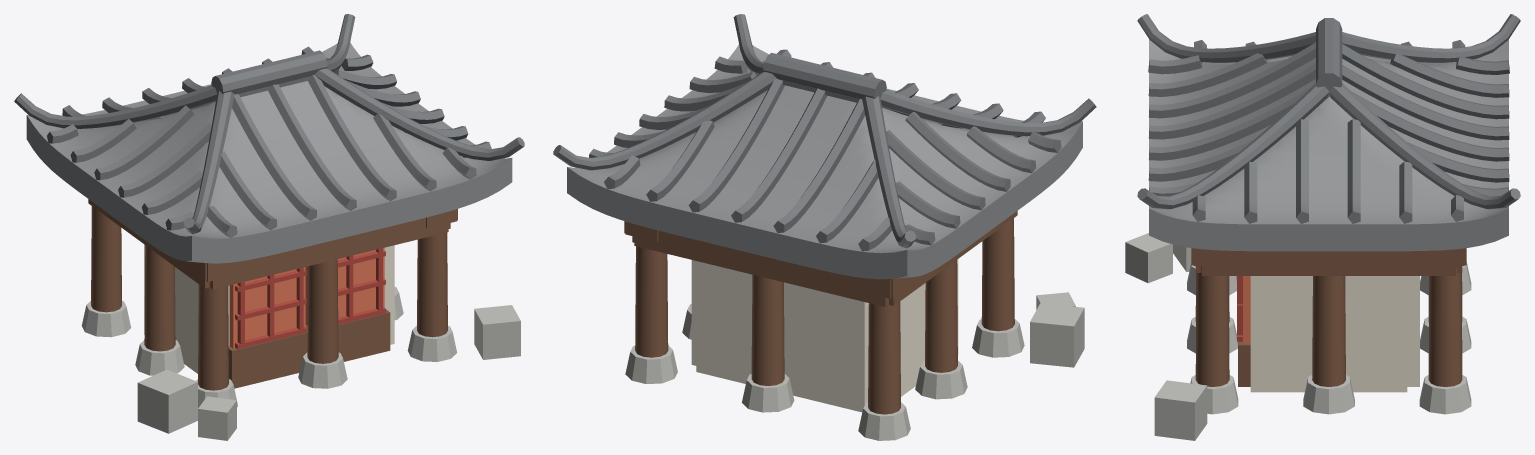
Rendered from SonMon_stone.fbx.
The picture shows the model from 3 angles, left to right: view 1: azimuth 30°, elevation 25°; view 2: azimuth 150°, elevation 25°; view 3: azimuth 270°, elevation 25°; orthographic projection. The views are drawn at different scales.
Parts seen in each view (by area): view 1: stone; view 2: stone; view 3: stone.
Boxes of the visible parts, x1=… form: stone: x1=14, y1=14, x2=524, y2=440; stone: x1=553, y1=14, x2=1096, y2=440; stone: x1=1125, y1=14, x2=1520, y2=440.
Size of the model in its own units: 2.16 by 1.56 by 1.87.
